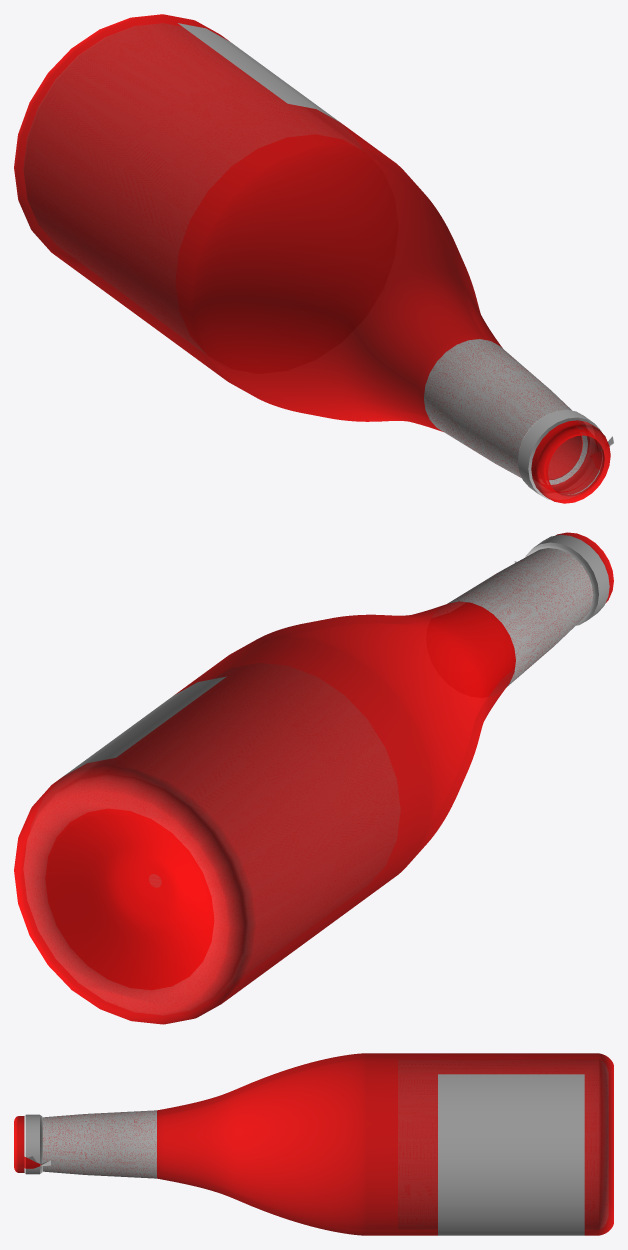
File: model_scale.obj
3 views of the same model, one above another, from view 1: azimuth 30°, elevation 25°; view 2: azimuth 150°, elevation 25°; view 3: azimuth 270°, elevation 25° (orthographic). The views are drawn at different scales.
Visible parts, largest first — view 1: mesh2_mesh2-geometry, mesh1_mesh1-geometry, mesh3_mesh3-geometry, mesh4_mesh4-geometry; view 2: mesh2_mesh2-geometry, mesh1_mesh1-geometry; view 3: mesh2_mesh2-geometry, mesh1_mesh1-geometry.
Part boxes in pixels (x1,y1,x2,y2): mesh2_mesh2-geometry: (14,14,613,503); mesh1_mesh1-geometry: (23,23,582,480); mesh3_mesh3-geometry: (532,421,597,492); mesh4_mesh4-geometry: (539,429,602,494); mesh2_mesh2-geometry: (14,532,613,1024); mesh1_mesh1-geometry: (23,603,515,1014); mesh2_mesh2-geometry: (14,1053,613,1235); mesh1_mesh1-geometry: (157,1059,608,1229).
Size of the model in its own units: 0.0474 by 0.0474 by 0.1553.
